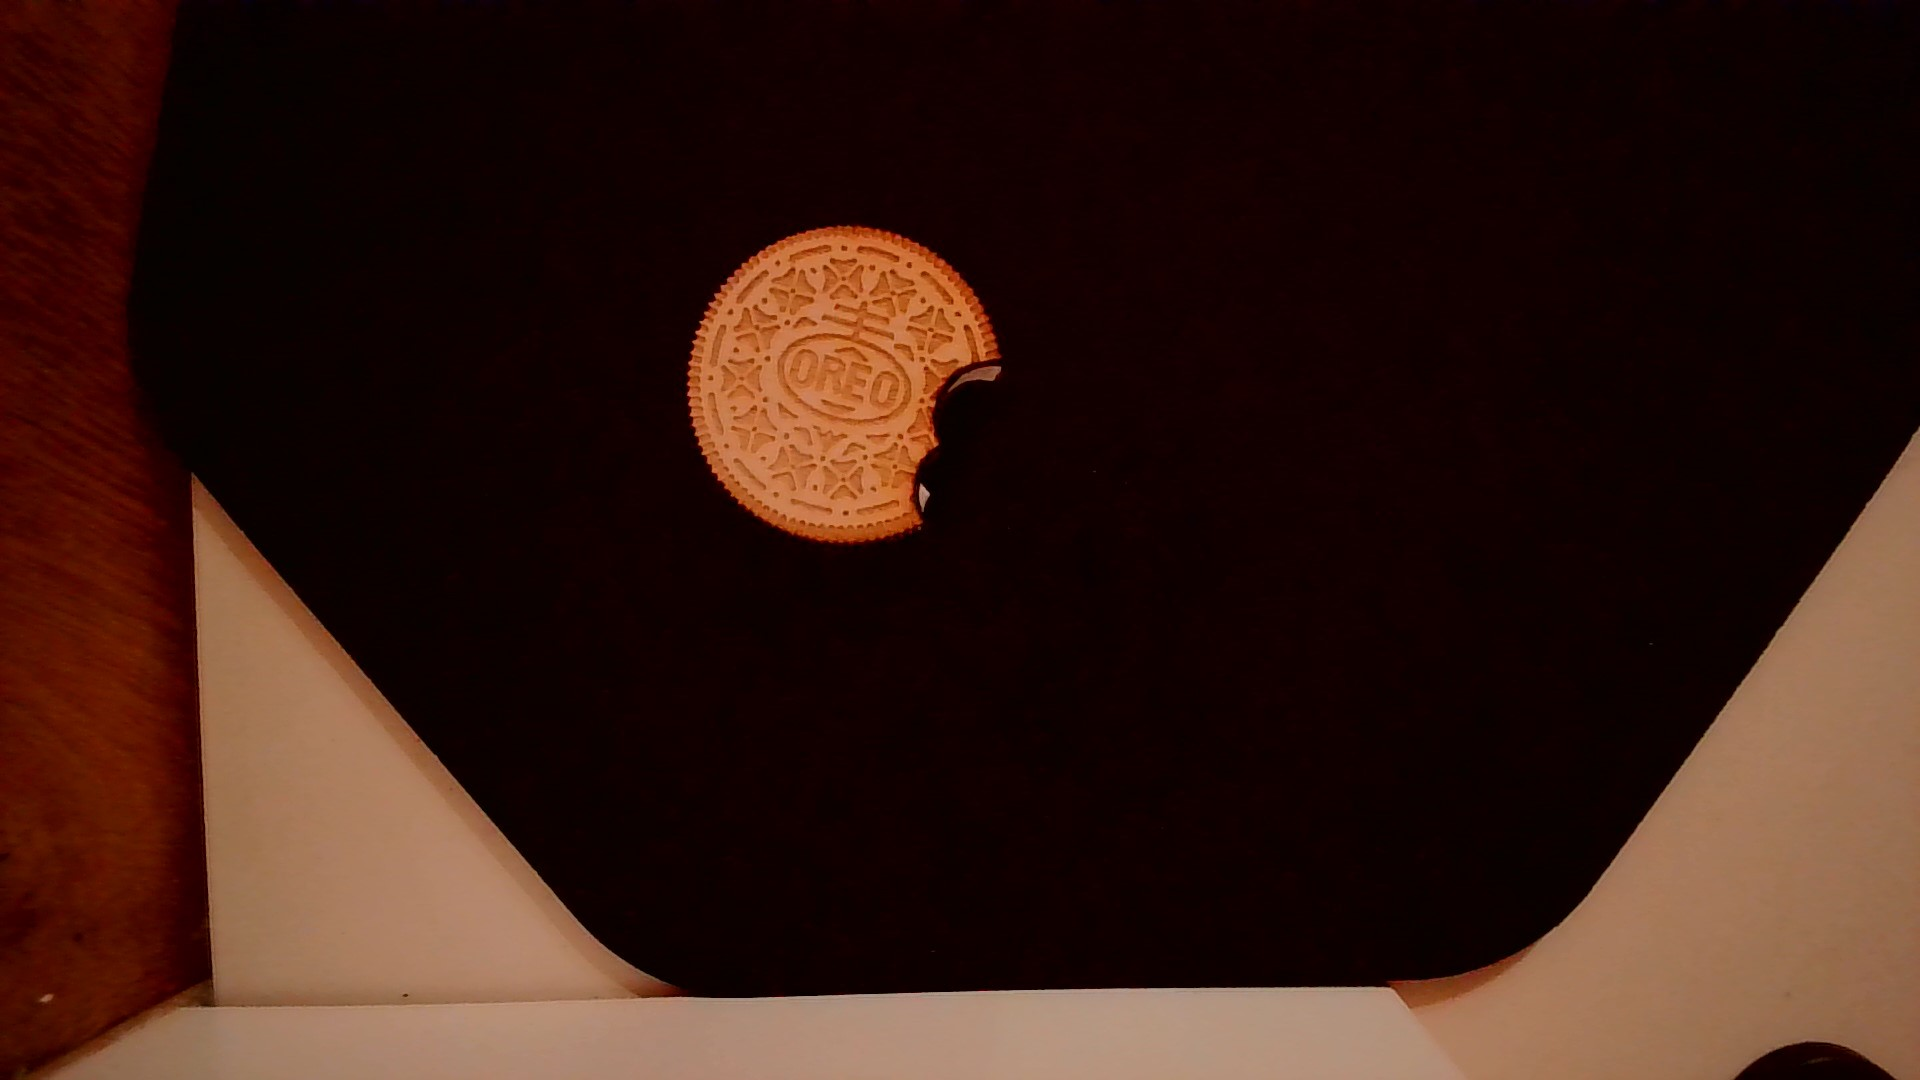Mangé: (905, 328, 1013, 556)
Oréo: (669, 214, 1005, 556)
